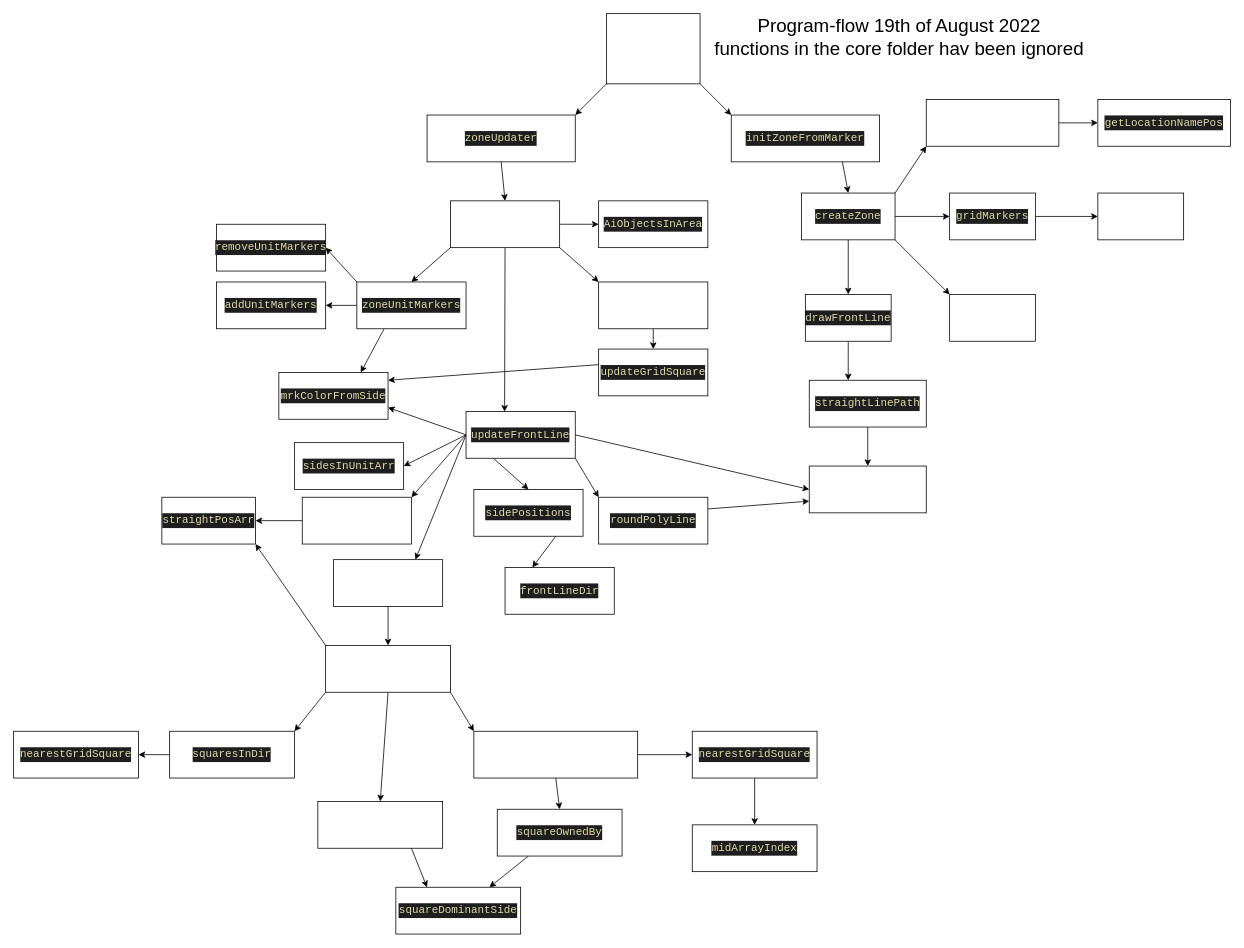
Some shapes in this 1244 by 948 pixel diagram are drawn without their labels. The centre of each missing label's shape, as x and y in pixels:
"adjustFrontLine" belongs at (x=388, y=582).
"adjustFrontLinePos" belongs at (x=387, y=668).
"baseFrontLine" belongs at (x=356, y=520).
"closestLocationName" belongs at (x=992, y=122).
"frontLinePosBetween2Sides" belongs at (x=555, y=754).
"gridSquares" belongs at (x=992, y=317).
"initFrontLines" belongs at (x=653, y=48).
"pathFromPosArr" belongs at (x=867, y=489).
"sidesInSquares" belongs at (x=380, y=824).
"SquareMarker" belongs at (x=1140, y=216).
"updateGrid" belongs at (x=653, y=305).
"updateZone" belongs at (x=505, y=224).
